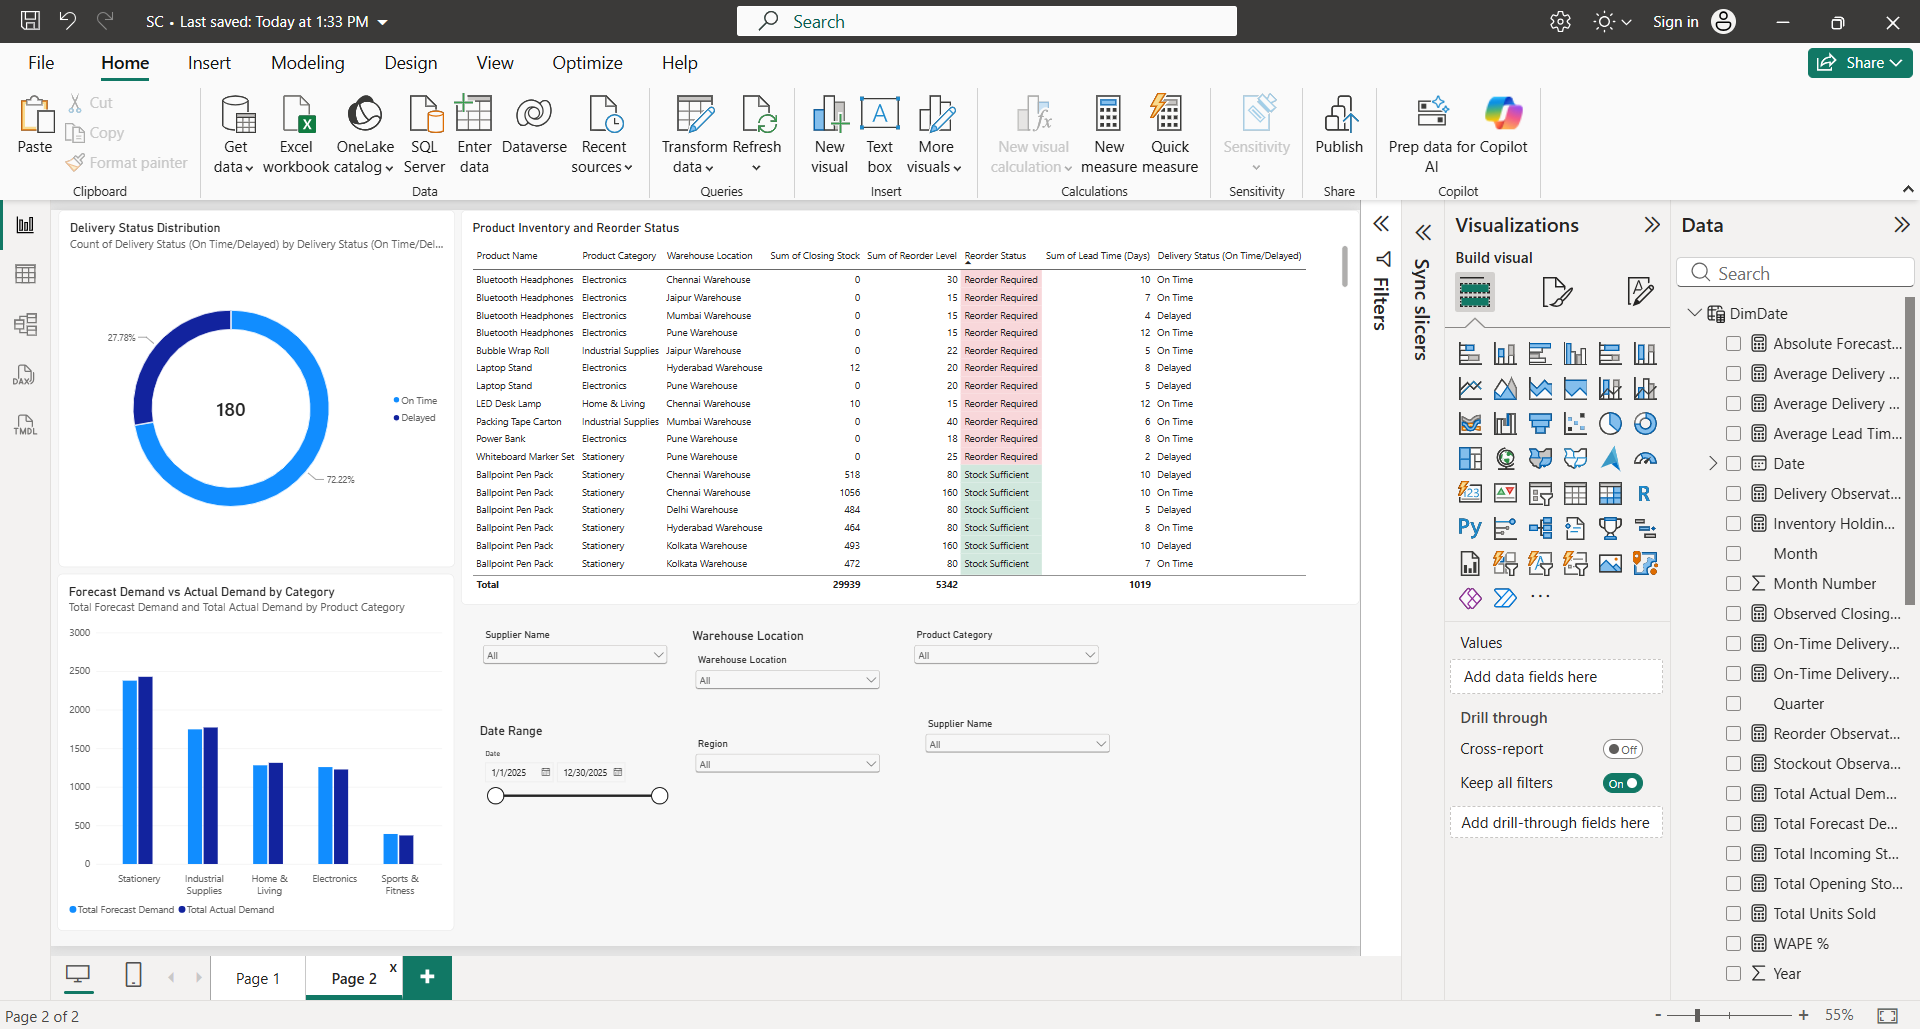

This screenshot's page, from the dashboard's own definition file:
{"tool":"powerbi","page":{"name":"Page 2","canvas":[1920,1080],"ordinal":1},"visuals":[{"type":"donutChart","title":"Delivery Status Distribution","fields":{"Category":["FactSupplyChain.Delivery Status (On Time/Delayed)"],"Y":["CountNonNull(FactSupplyChain.Delivery Status (On Time/Delayed))"]},"box":[10.3,0,581.7,523.9],"z":0},{"type":"clusteredColumnChart","title":"Forecast Demand vs Actual Demand by Category","fields":{"Category":["FactSupplyChain.Product Category"],"Y":["DimDate.Total Forecast Demand","DimDate.Total Actual Demand"]},"box":[10,534,582,524],"z":1},{"type":"tableEx","title":"Product Inventory and Reorder Status","fields":{"Values":["FactSupplyChain.Product Name","FactSupplyChain.Product Category","FactSupplyChain.Warehouse Location","Sum(FactSupplyChain.Closing Stock)","Sum(FactSupplyChain.Reorder Level)","FactSupplyChain.Reorder Status","Sum(FactSupplyChain.Lead Time (Days))","FactSupplyChain.Delivery Status (On Time/Delayed)"]},"box":[601.5,0,1318.5,579.5],"z":2},{"type":"slicer","fields":{"Values":["FactSupplyChain.Supplier Name"]},"box":[629,614.3,280.2,87.7],"z":8},{"type":"slicer","title":"Warehouse Location","fields":{"Values":["FactSupplyChain.Warehouse Location"]},"box":[940.7,614.3,280.2,138.9],"z":9},{"type":"slicer","title":"Date Range","fields":{"Values":["DimDate.Date"]},"box":[629,753.7,280.2,155.9],"z":10},{"type":"slicer","fields":{"Values":["FactSupplyChain.Region"]},"box":[940.7,773.9,280.2,80.4],"z":11},{"type":"slicer","fields":{"Values":["FactSupplyChain.Product Category"]},"box":[1261.7,614.3,280.5,109.3],"z":12},{"type":"slicer","fields":{"Values":["FactSupplyChain.Supplier Name"]},"box":[1278.2,744.5,280.2,87.7],"z":13}]}

Visuals, with their boxes on the page's 1920x1080 design canvas (x1, y1, x2, y2). These are canvas units, not pixel positions in the 1920x1029 screenshot, which may show the page scaled, cropped or inside an application window:
"Delivery Status Distribution" donutChart: left=10, top=0, right=592, bottom=524
"Forecast Demand vs Actual Demand by Category" clusteredColumnChart: left=10, top=534, right=592, bottom=1058
"Product Inventory and Reorder Status" tableEx: left=602, top=0, right=1920, bottom=580
slicer - FactSupplyChain.Supplier Name: left=629, top=614, right=909, bottom=702
"Warehouse Location" slicer: left=941, top=614, right=1221, bottom=753
"Date Range" slicer: left=629, top=754, right=909, bottom=910
slicer - FactSupplyChain.Region: left=941, top=774, right=1221, bottom=854
slicer - FactSupplyChain.Product Category: left=1262, top=614, right=1542, bottom=724
slicer - FactSupplyChain.Supplier Name: left=1278, top=744, right=1558, bottom=832
